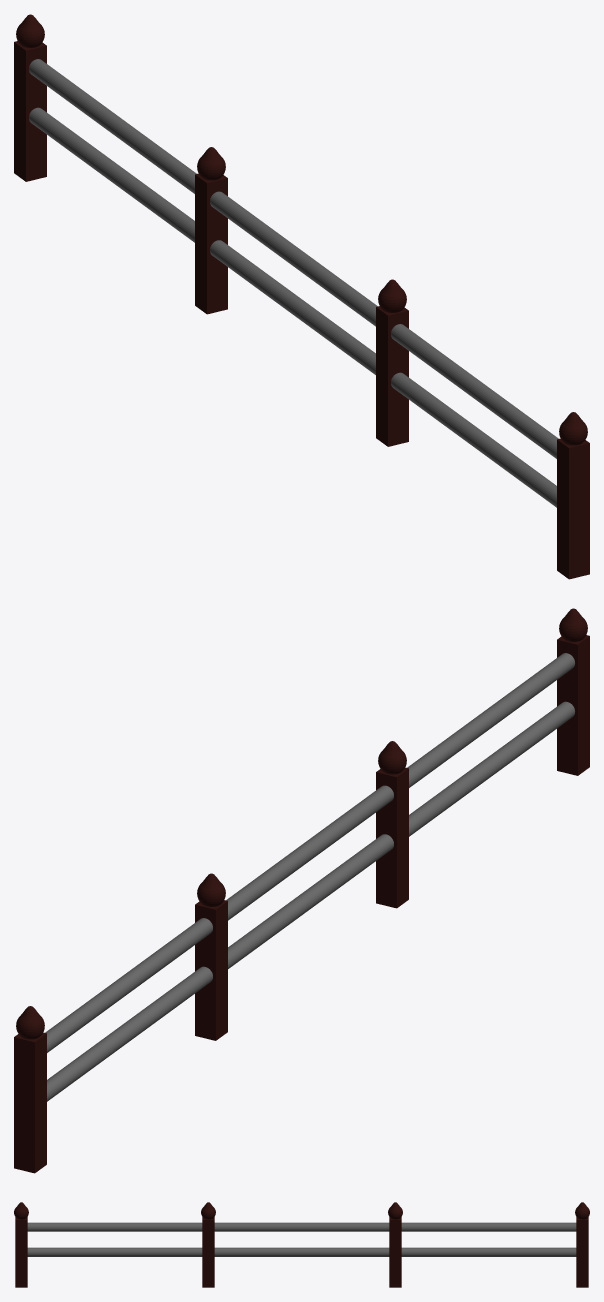
The model's file is railing.fbx.
3 renders of one model, top to bottom at view 1: azimuth 30°, elevation 25°; view 2: azimuth 150°, elevation 25°; view 3: azimuth 270°, elevation 25°, orthographic. The views are drawn at different scales.
Parts seen in each view (by area): view 1: Railing; view 2: Railing; view 3: Railing.
Boxes of the visible parts, x1,y1,x2,y2 form: Railing: (14, 14, 589, 579); Railing: (14, 608, 589, 1173); Railing: (14, 1202, 589, 1287).
Size of the model in its own units: 23.92 by 147 by 924.
